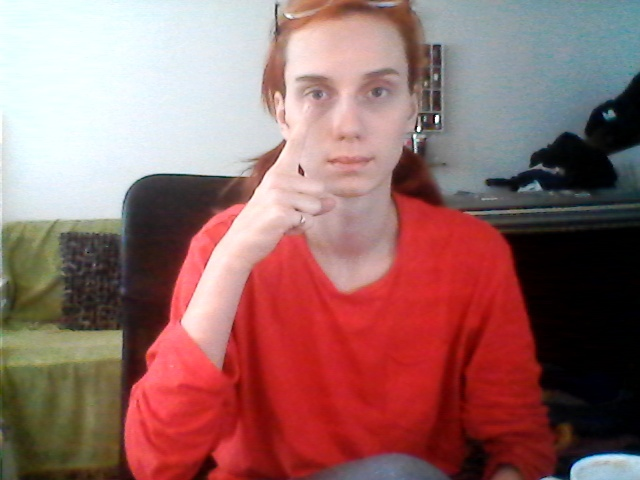mama: (249, 95, 370, 237)
